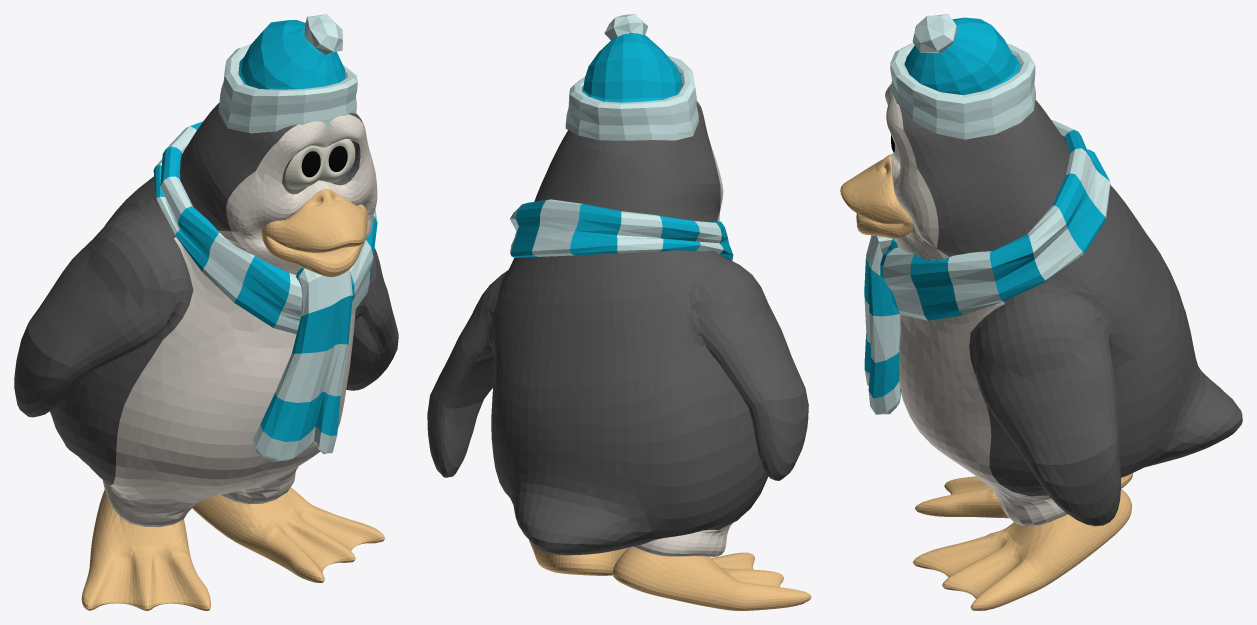
File: pinguin.fbx
3 views of the same model, side by side, from view 1: azimuth 30°, elevation 25°; view 2: azimuth 150°, elevation 25°; view 3: azimuth 270°, elevation 25° (orthographic). The views are drawn at different scales.
Parts seen in each view (by area): view 1: Object01; view 2: Object01; view 3: Object01.
Part boxes in pixels (x1,y1,x2,y2): Object01: (14, 14, 398, 610); Object01: (427, 14, 811, 610); Object01: (840, 14, 1242, 610).
Size of the model in its own units: 514 by 737 by 482.
